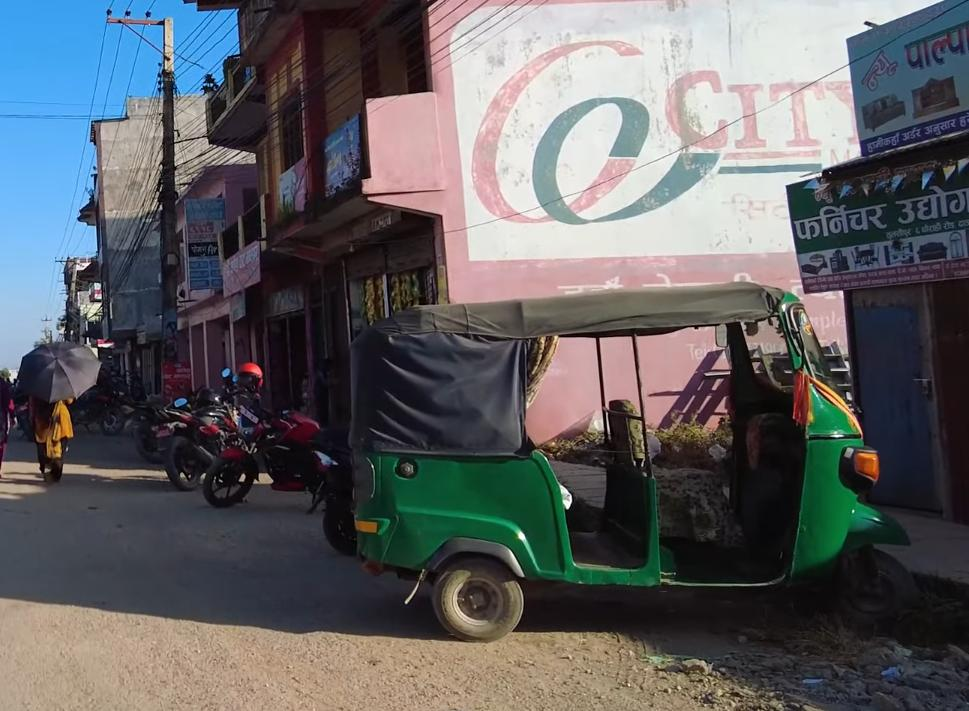auto_rickshaw: (327, 270, 919, 651)
bike: (195, 403, 330, 512)
